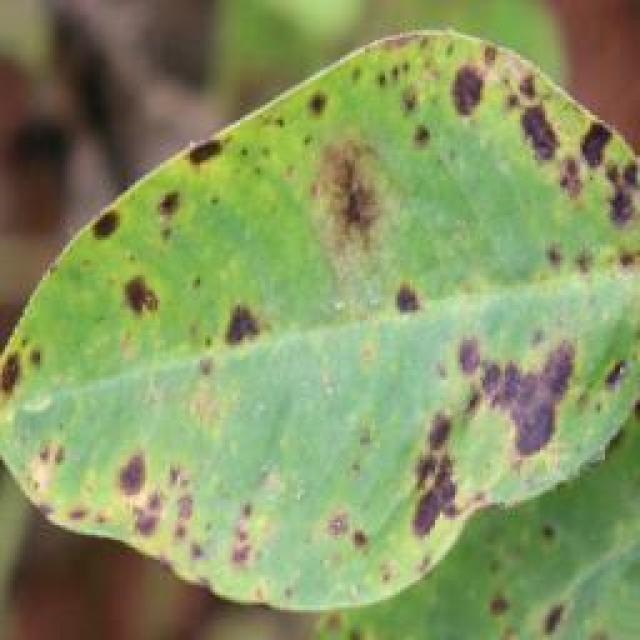Yellowish: (0, 23, 640, 637)
